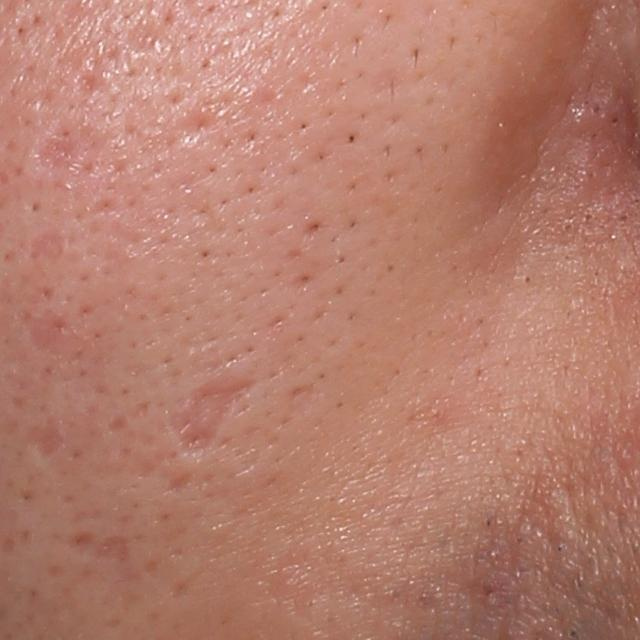atrophic_scar: (170, 378, 258, 457), (35, 123, 84, 172), (66, 529, 135, 563), (171, 107, 224, 150), (27, 311, 74, 354), (24, 420, 61, 458), (31, 233, 64, 258)
